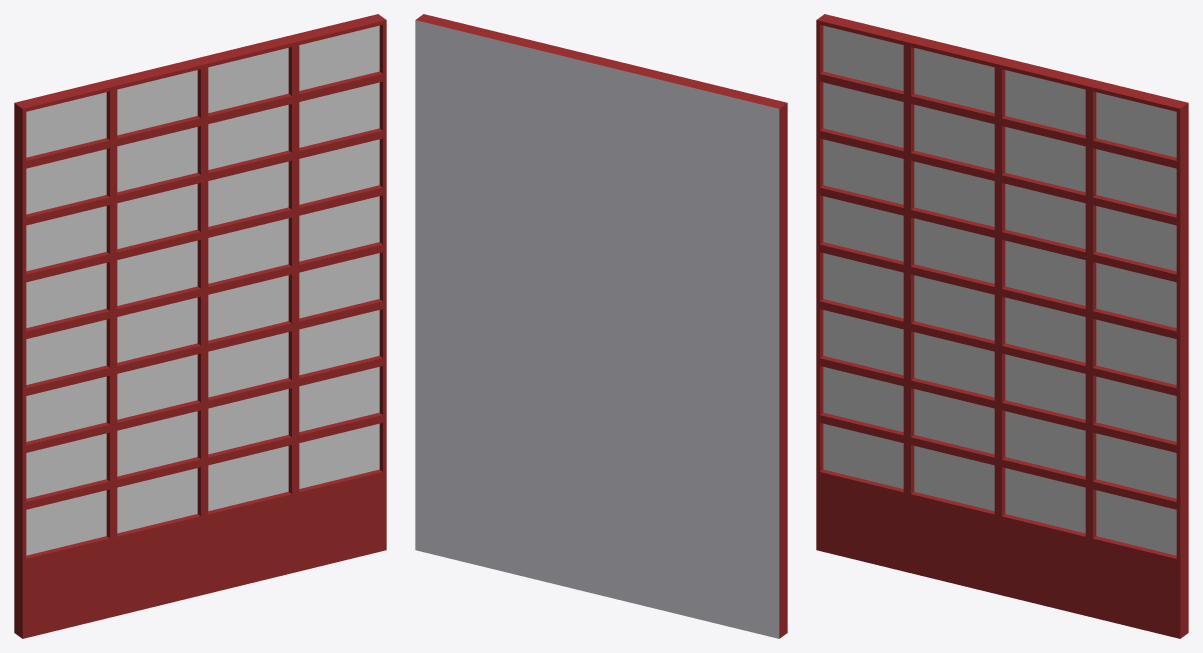
File: Asian_Prop_Building_Modular_Wall_Paper_Screen_Door_01.FBX
3 renders of one model, left to right at view 1: azimuth 30°, elevation 25°; view 2: azimuth 150°, elevation 25°; view 3: azimuth 330°, elevation 25°, orthographic.
Parts seen in each view (by area): view 1: Asian_Prop_Building_Modular_Wall_Paper_Screen_Door_01; view 2: Asian_Prop_Building_Modular_Wall_Paper_Screen_Door_01; view 3: Asian_Prop_Building_Modular_Wall_Paper_Screen_Door_01.
Part boxes in pixels (x1,y1,x2,y2): Asian_Prop_Building_Modular_Wall_Paper_Screen_Door_01: (14,14,386,638); Asian_Prop_Building_Modular_Wall_Paper_Screen_Door_01: (415,14,787,638); Asian_Prop_Building_Modular_Wall_Paper_Screen_Door_01: (816,14,1188,638).
Bounding box in the file's own units: 2438 × 3394 × 96.
